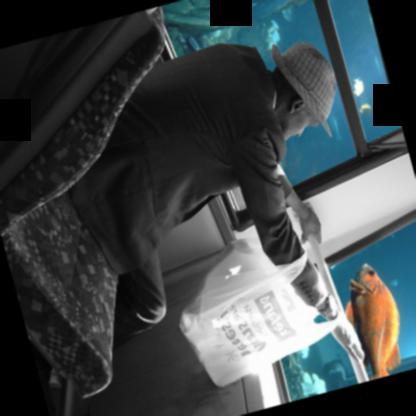handbag: (178, 235, 340, 388)
